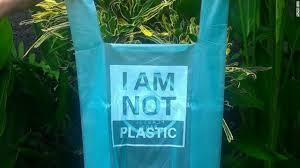Plastic bag: (49, 0, 238, 168)
